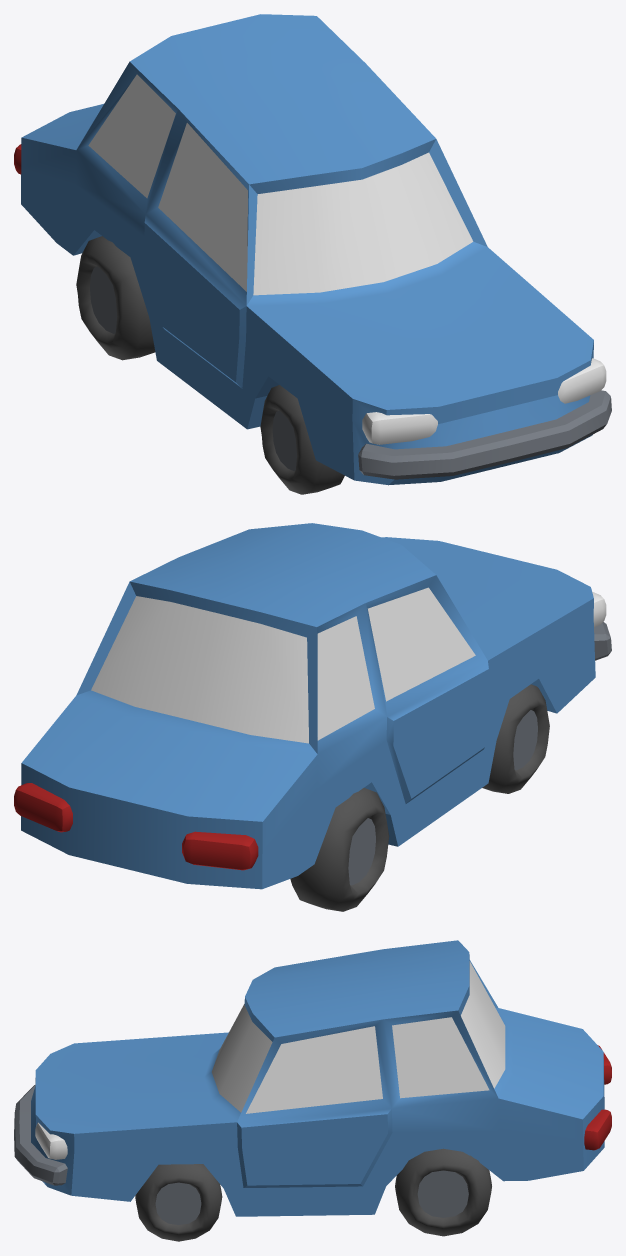
File: car.fbx
The picture shows the model from 3 angles, top to bottom: view 1: azimuth 30°, elevation 25°; view 2: azimuth 150°, elevation 25°; view 3: azimuth 270°, elevation 25°; orthographic projection. The views are drawn at different scales.
Visible parts, largest first — view 1: pCube13; view 2: pCube13; view 3: pCube13.
Part boxes in pixels (x1,y1,x2,y2): pCube13: (14,14,611,494); pCube13: (14,523,611,911); pCube13: (14,940,611,1241).
Size of the model in its own units: 2.75 by 2.91 by 6.85.
